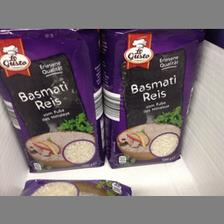Reis: (0, 29, 104, 171), (100, 28, 204, 168)
